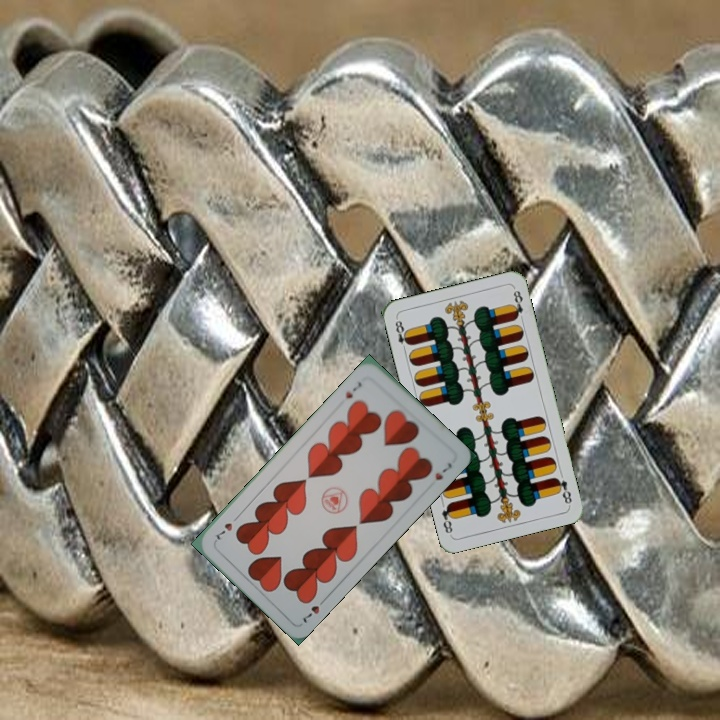E8: (390, 314, 413, 354), (551, 473, 574, 506)
H7: (299, 593, 329, 626), (341, 378, 365, 401)
